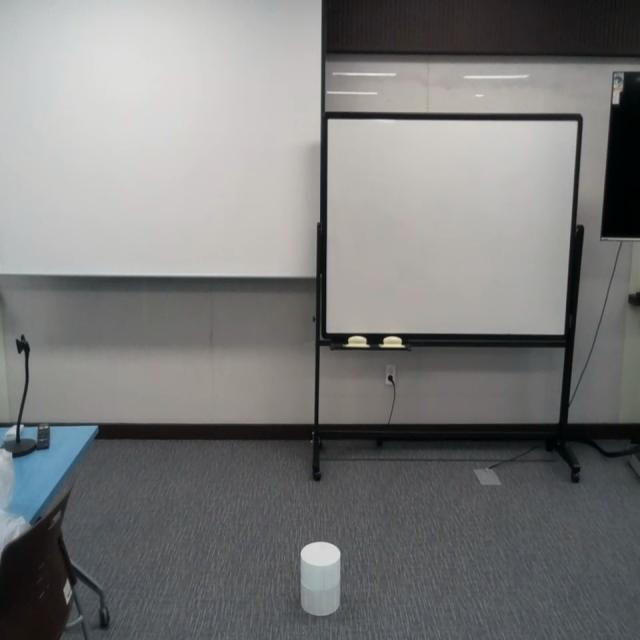cylinder: (300, 541, 341, 617)
